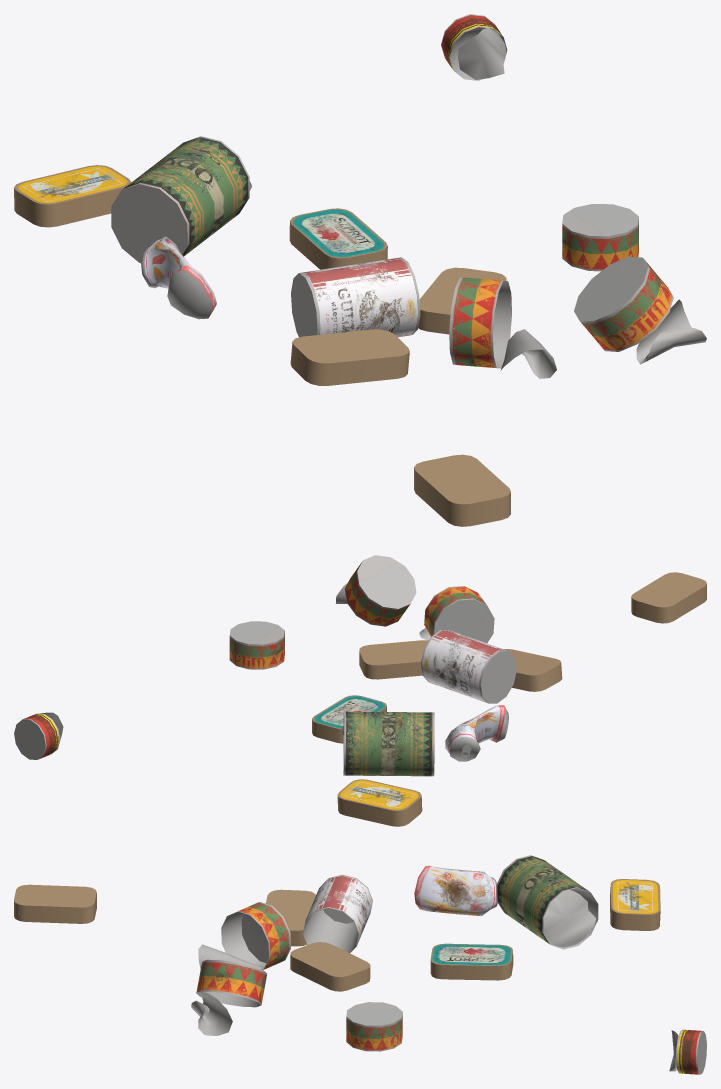
Rendered from SM_TrashSet_01_D.fbx.
3 views of the same model, one above another, from view 1: azimuth 30°, elevation 25°; view 2: azimuth 150°, elevation 25°; view 3: azimuth 270°, elevation 25° (orthographic). The views are drawn at different scales.
Parts seen in each view (by area): view 1: SM_TrashSet_01_D; view 2: SM_TrashSet_01_D; view 3: SM_TrashSet_01_D.
Boxes of the visible parts, box(x1,y1,x2,y2) form: SM_TrashSet_01_D: box(14, 14, 706, 526); SM_TrashSet_01_D: box(14, 555, 706, 826); SM_TrashSet_01_D: box(14, 855, 706, 1074).
Bounding box in the file's own units: 72.71 × 116 × 11.06.
Materials: 1 (1 with a texture image).
